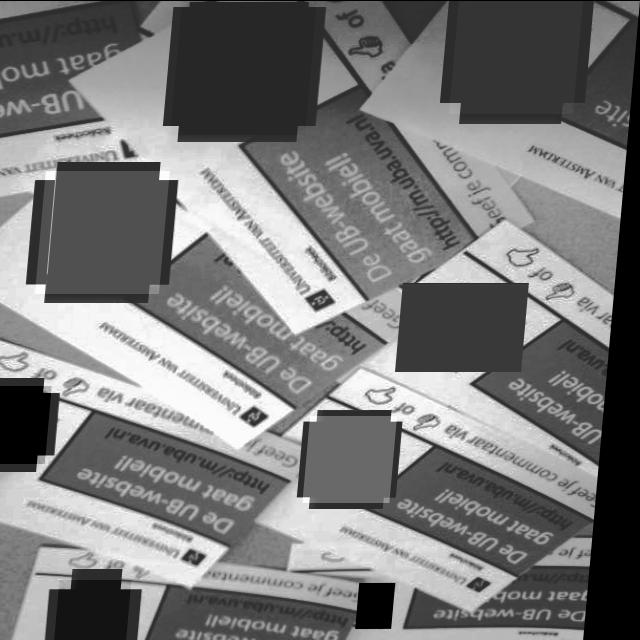qr_code: (173, 0, 317, 134), (41, 170, 173, 293), (451, 0, 583, 113), (402, 282, 534, 370), (312, 415, 405, 502), (66, 579, 143, 640), (0, 385, 59, 463), (367, 582, 406, 628)
